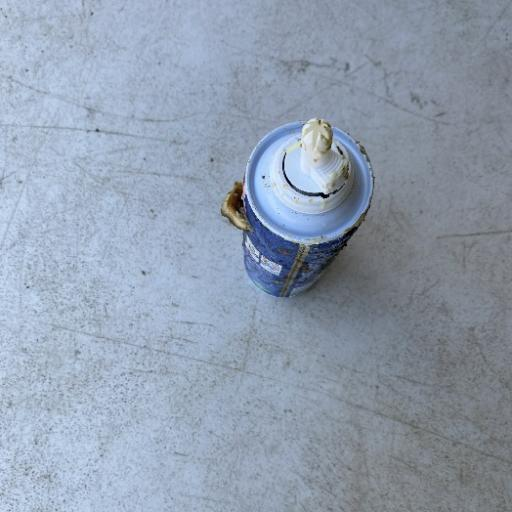Metal: (219, 116, 376, 300)
